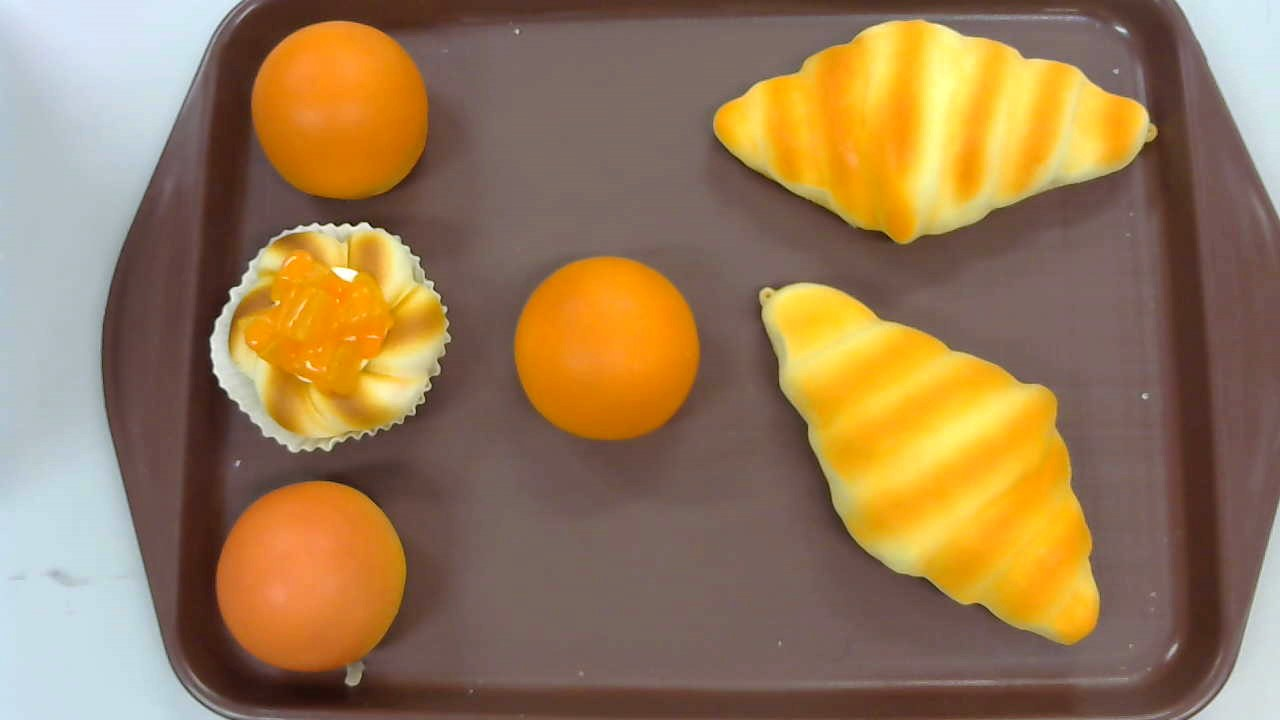bun: (216, 481, 407, 672), (514, 256, 701, 441), (251, 19, 429, 199)
croissant: (757, 282, 1099, 647), (711, 16, 1158, 246)
mango tart: (210, 220, 451, 454)
